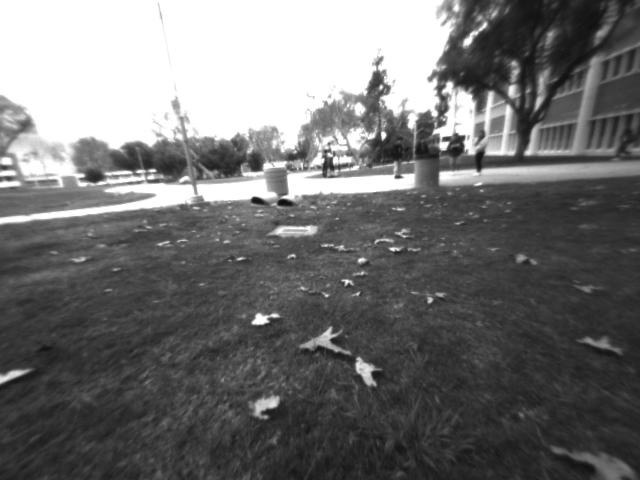trashcan: (413, 153, 441, 195), (264, 168, 290, 197)
